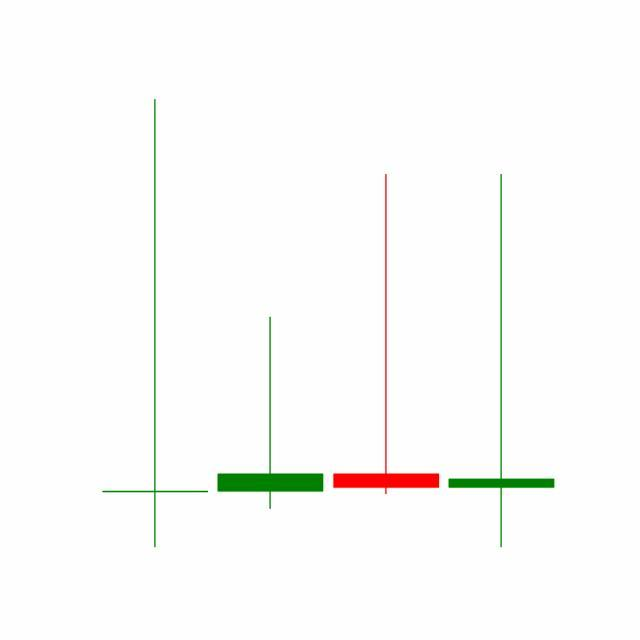Gravestone Doji: (329, 171, 445, 499)
